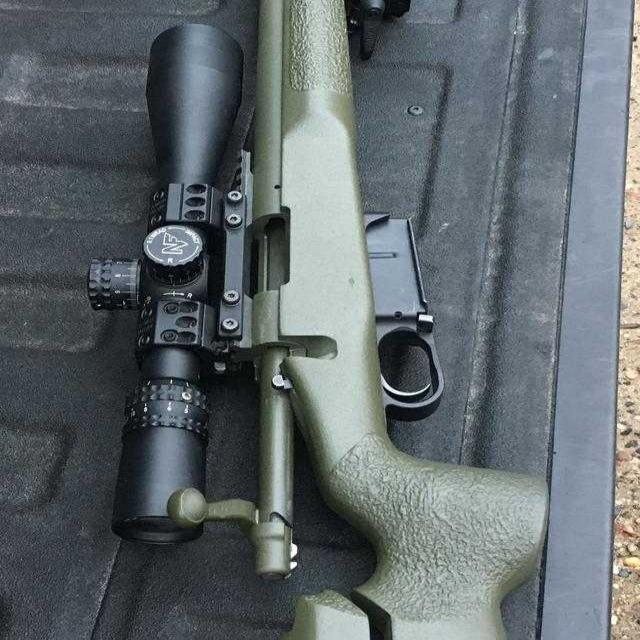heavyweapon: (128, 1, 564, 640)
